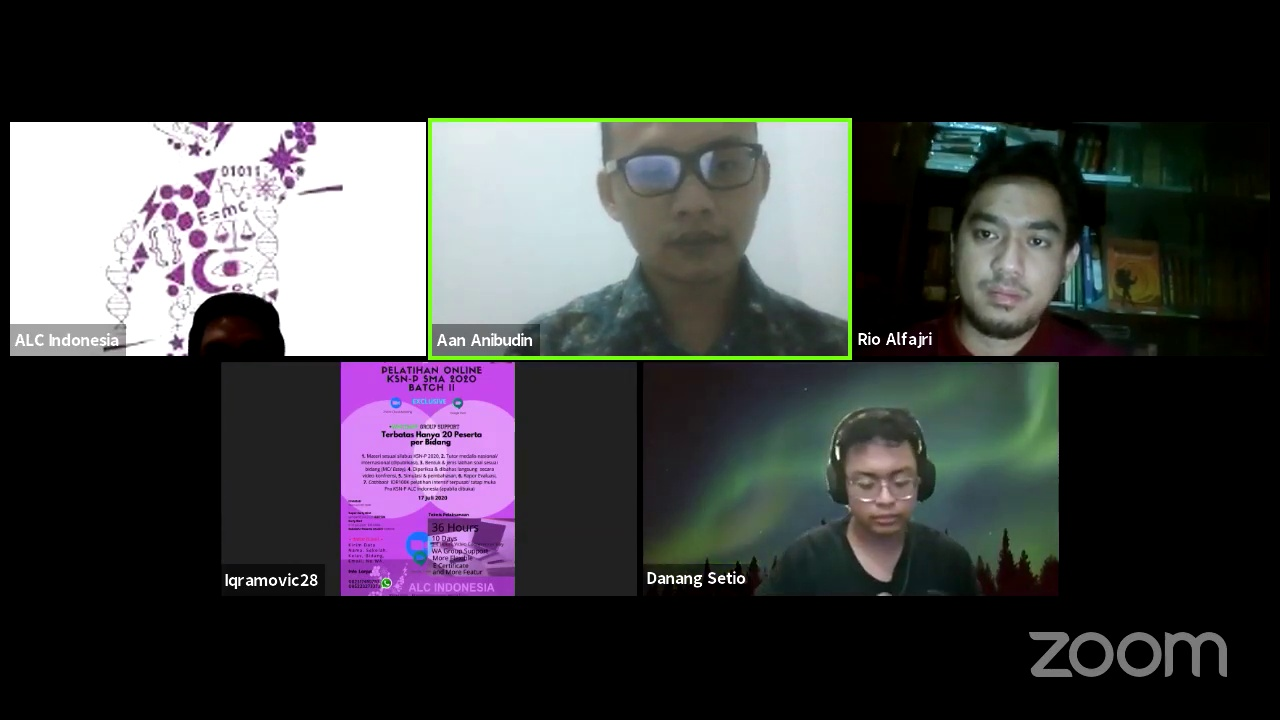Distracted: (813, 414, 947, 535)
Not Distracted: (594, 129, 784, 280), (933, 161, 1089, 337)
